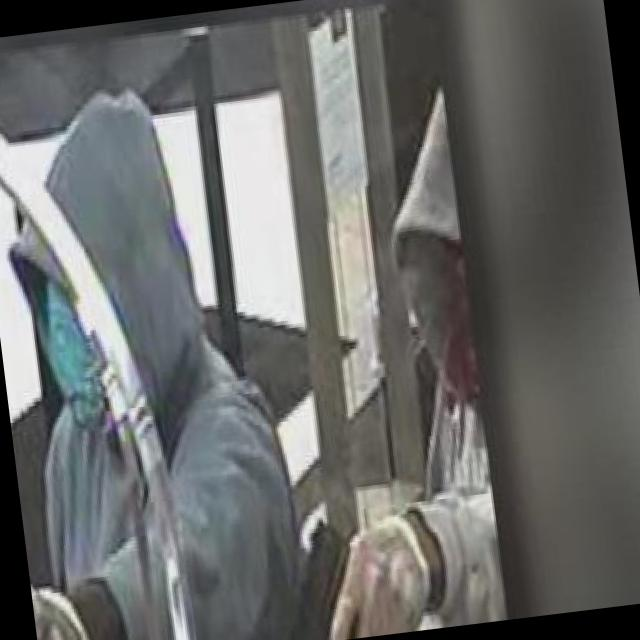Guns: (236, 478, 394, 640), (26, 548, 65, 640)
